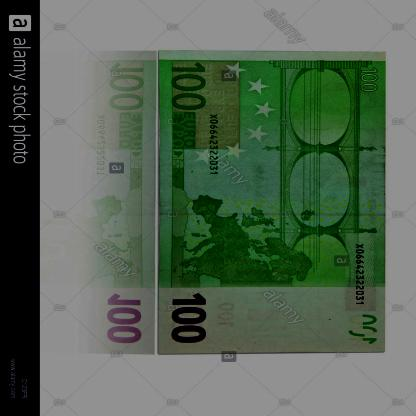euro_banknote: (124, 87, 416, 319)
